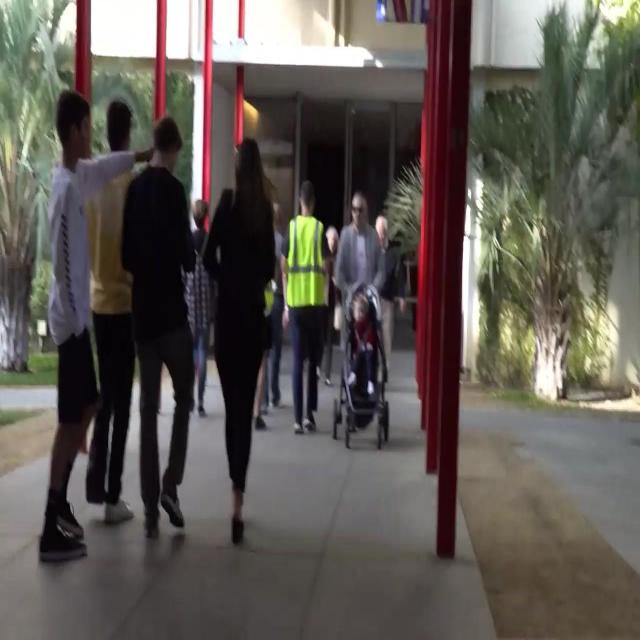Reflective-Jacket: (283, 214, 335, 326)
